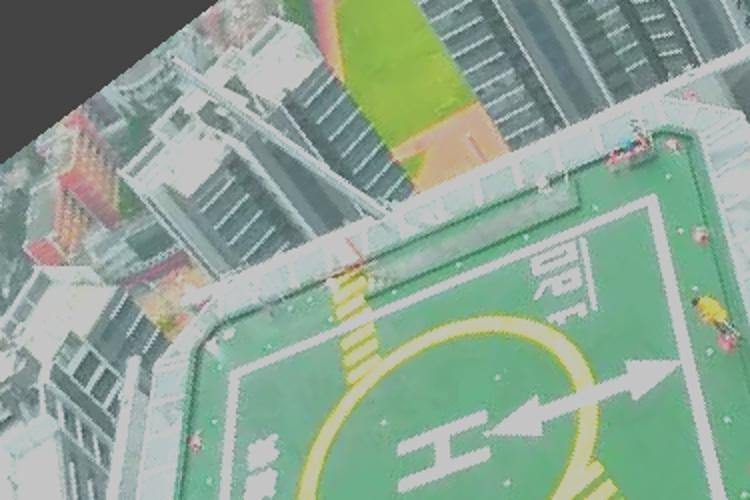Apron: (286, 307, 627, 500)
